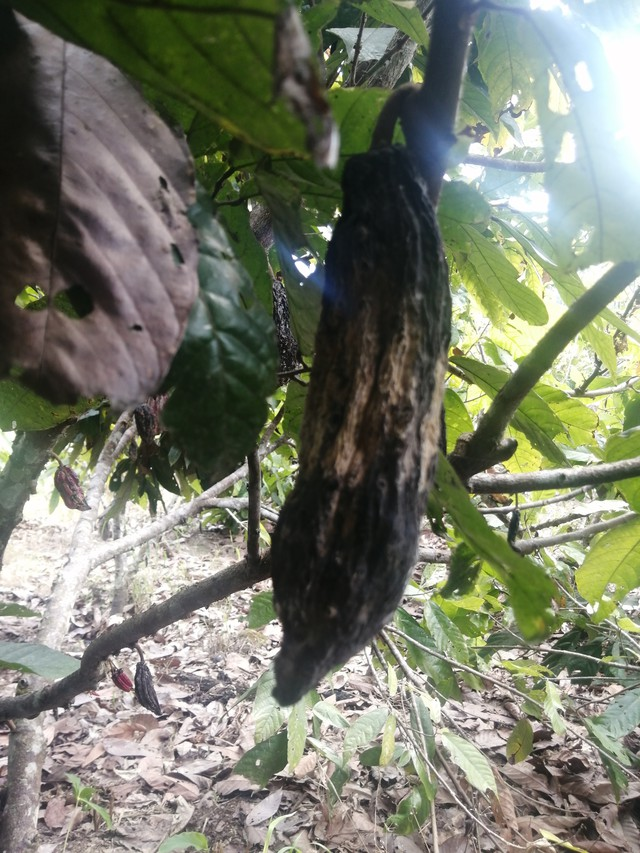moniliophthora roreri: (253, 139, 468, 711)
